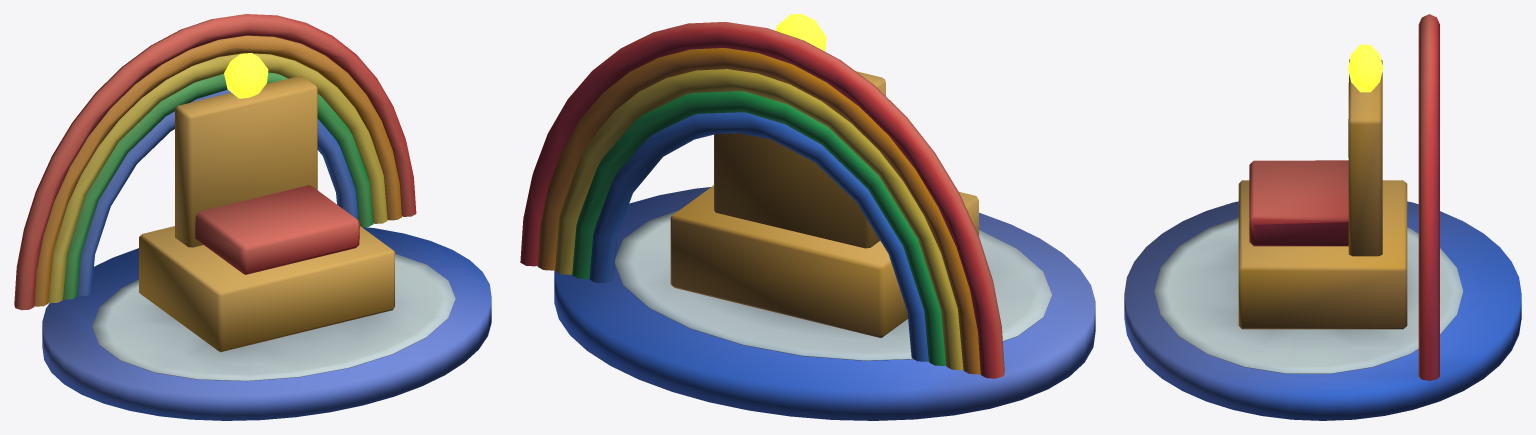
File: throne.glb
3 views of the same model, side by side, from view 1: azimuth 30°, elevation 25°; view 2: azimuth 150°, elevation 25°; view 3: azimuth 270°, elevation 25° (orthographic). The views are drawn at different scales.
Parts seen in each view (by area): view 1: throne; view 2: throne; view 3: throne.
Boxes of the visible parts, x1,y1,x2,y2 form: throne: [14, 14, 491, 420]; throne: [520, 14, 1095, 420]; throne: [1124, 14, 1521, 420].
Bounding box in the file's own units: 6.8 × 4.45 × 5.6.
